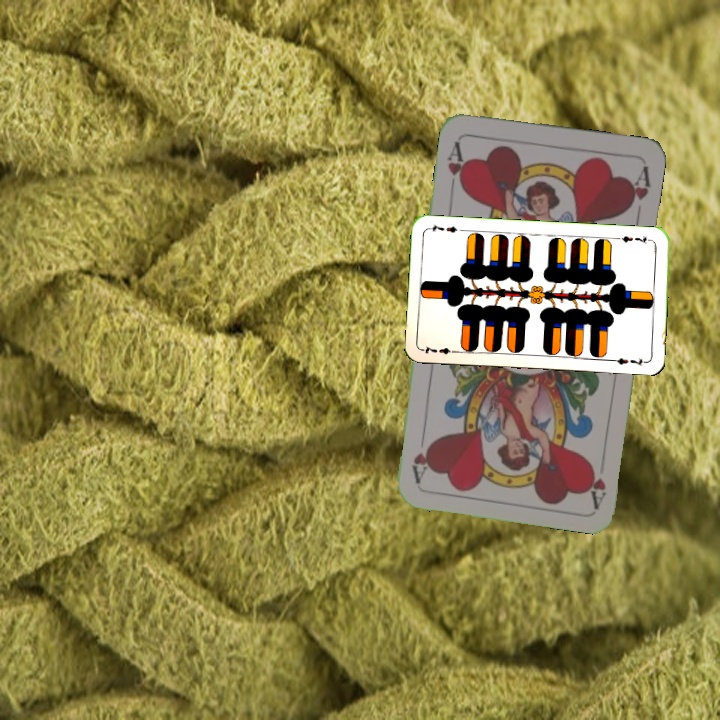E7: (419, 342, 460, 357), (614, 232, 655, 246)
HA: (442, 137, 470, 195), (583, 449, 609, 508)
